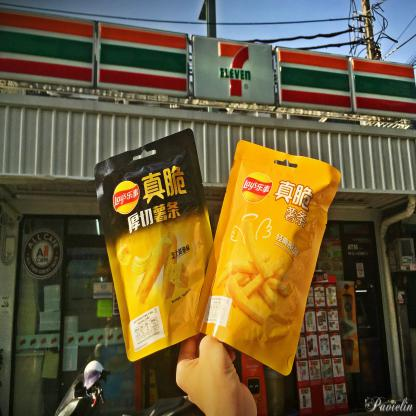potatochip: (193, 137, 342, 375), (96, 128, 223, 355)
